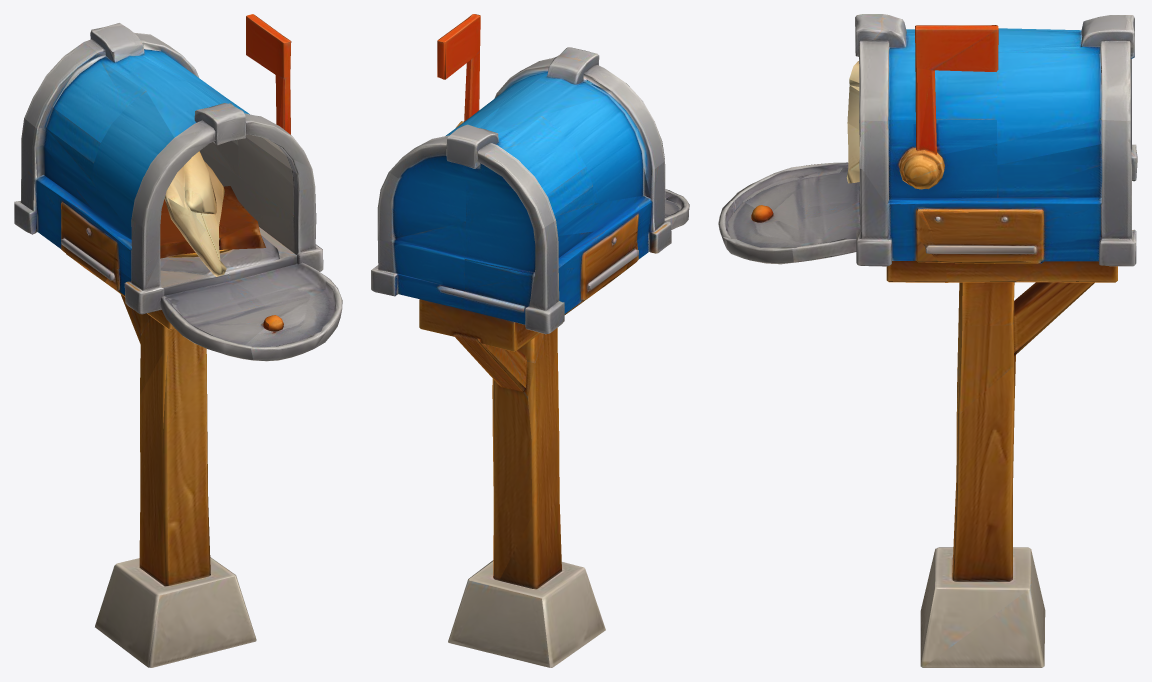
File: mailbox.glb
3 renders of one model, left to right at view 1: azimuth 30°, elevation 25°; view 2: azimuth 150°, elevation 25°; view 3: azimuth 270°, elevation 25°, orthographic. The views are drawn at different scales.
Bounding box in the file's own units: 0.3389 × 1 × 0.5801.
Materials: 1 (1 with a texture image).
